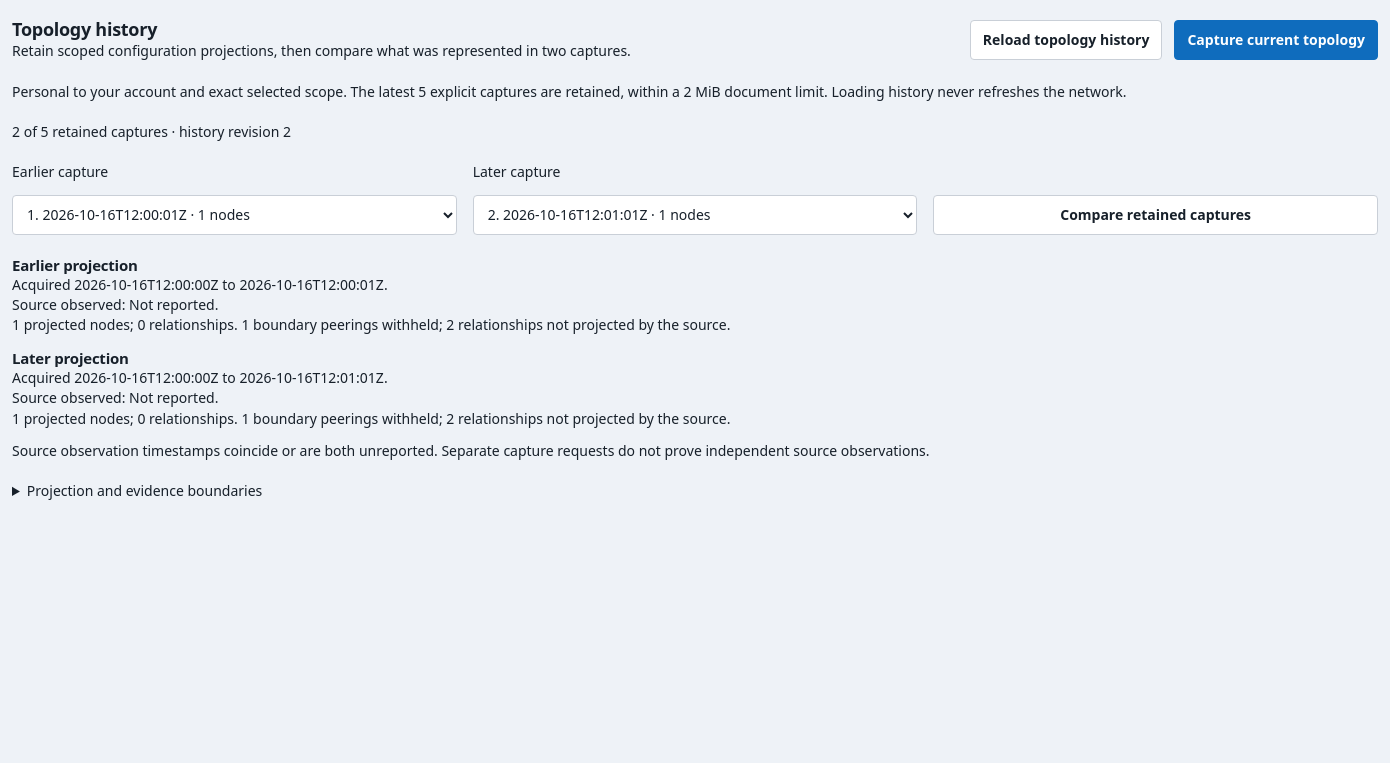
Retained topology history › reads history without capture and compares only after explicit review
The width and height of the screenshot is (1390, 763).
Expected: the text "2 of 5 retained captures · history revision 2" is shown, top-left (12, 122), bottom-right (291, 141)
Expected: the text "Separate capture requests do not prove independent" is shown, top-left (12, 441), bottom-right (930, 460)
Click the button "Compare retained captures": point(1156, 215) top-left (933, 195), bottom-right (1378, 235)
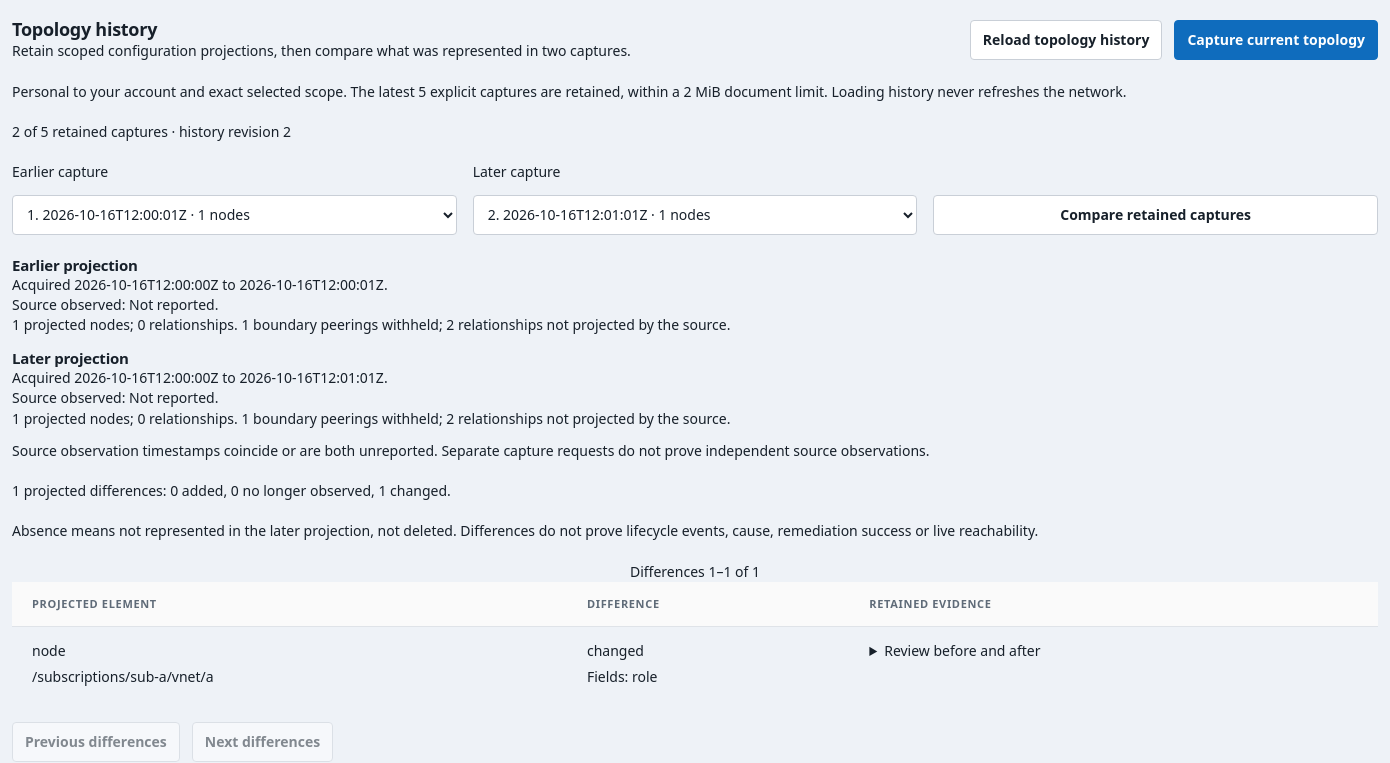
Expected: the element named "Retained topology differences" is shown, top-left (12, 562), bottom-right (1378, 702)
Click the heading "Review before and after": point(962, 650) top-left (884, 641), bottom-right (1040, 660)
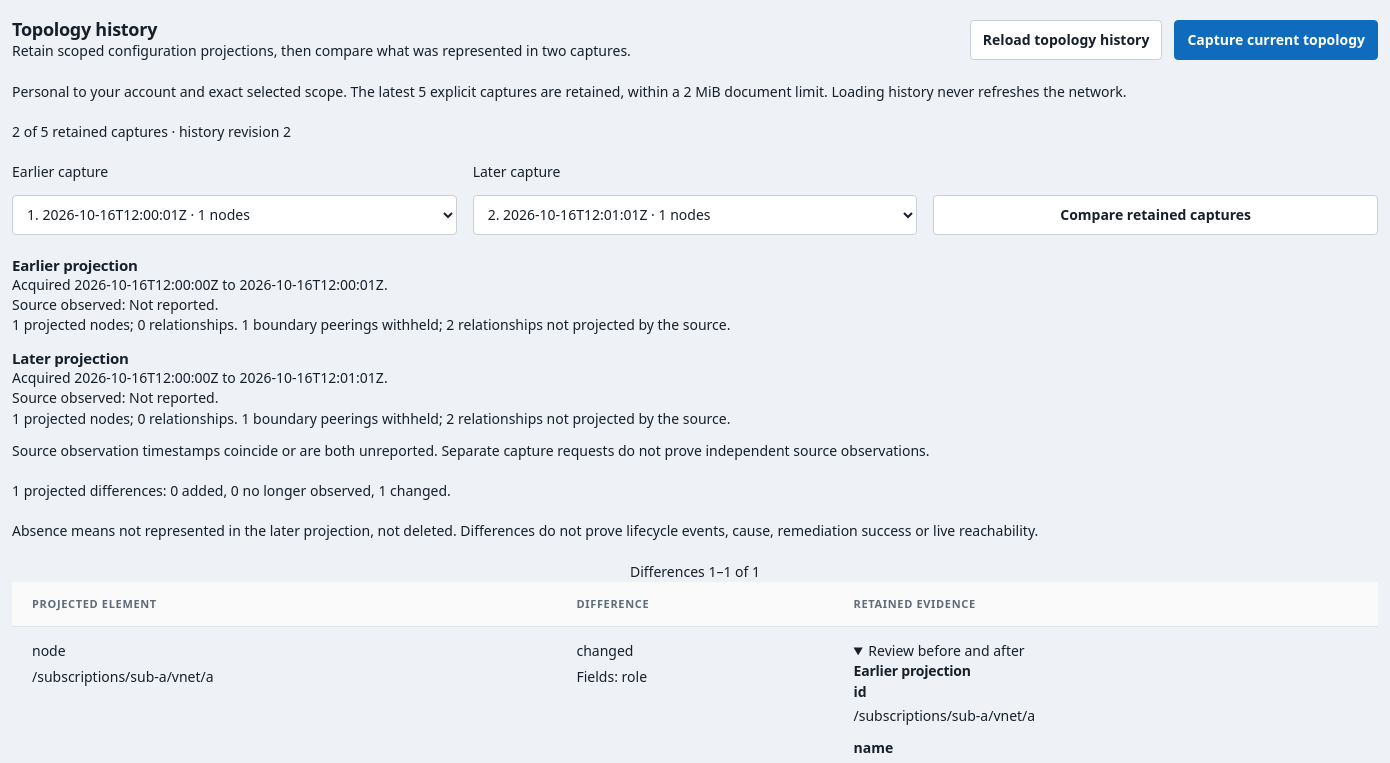
Expected: the text "Source observed: Not reported." is shown 2 times, top-left (12, 295), bottom-right (218, 314); top-left (12, 388), bottom-right (218, 407)
Expected: the text "Existing VNet" is shown 2 times
